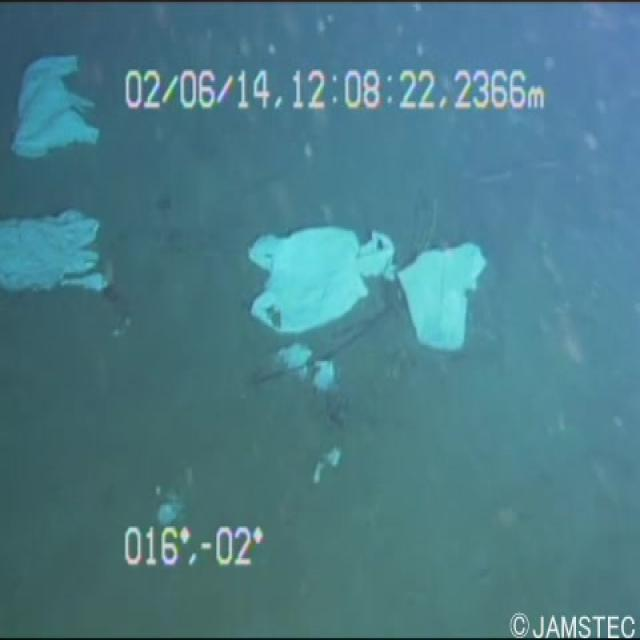plastic: (236, 210, 400, 334), (0, 185, 113, 311), (399, 210, 485, 352), (13, 37, 102, 167)
